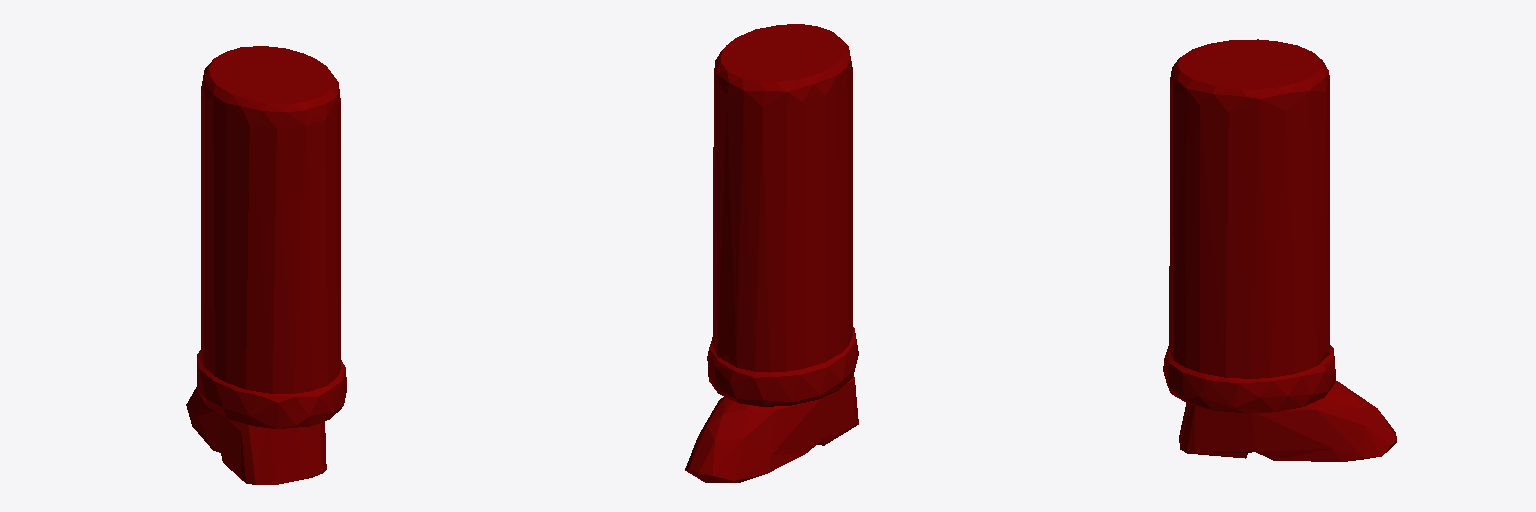
Rendered from pizq.obj.
The picture shows the model from 3 angles: view 1: azimuth 30°, elevation 25°; view 2: azimuth 150°, elevation 25°; view 3: azimuth 270°, elevation 25°; orthographic projection.
Visible parts, largest first — view 1: piernaIzq; view 2: piernaIzq; view 3: piernaIzq.
Part boxes in pixels (left/top/right/bottom): piernaIzq: left=186, top=46, right=346, bottom=484; piernaIzq: left=685, top=24, right=858, bottom=482; piernaIzq: left=1163, top=39, right=1396, bottom=461.
Bounding box in the file's own units: 0.5881 × 1.73 × 0.9549.